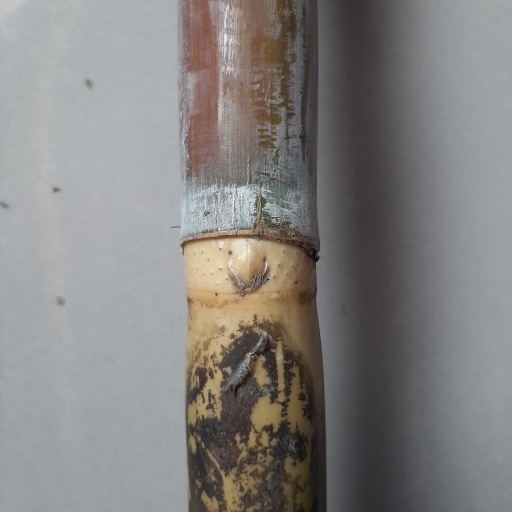Bud: (229, 240, 270, 294)
